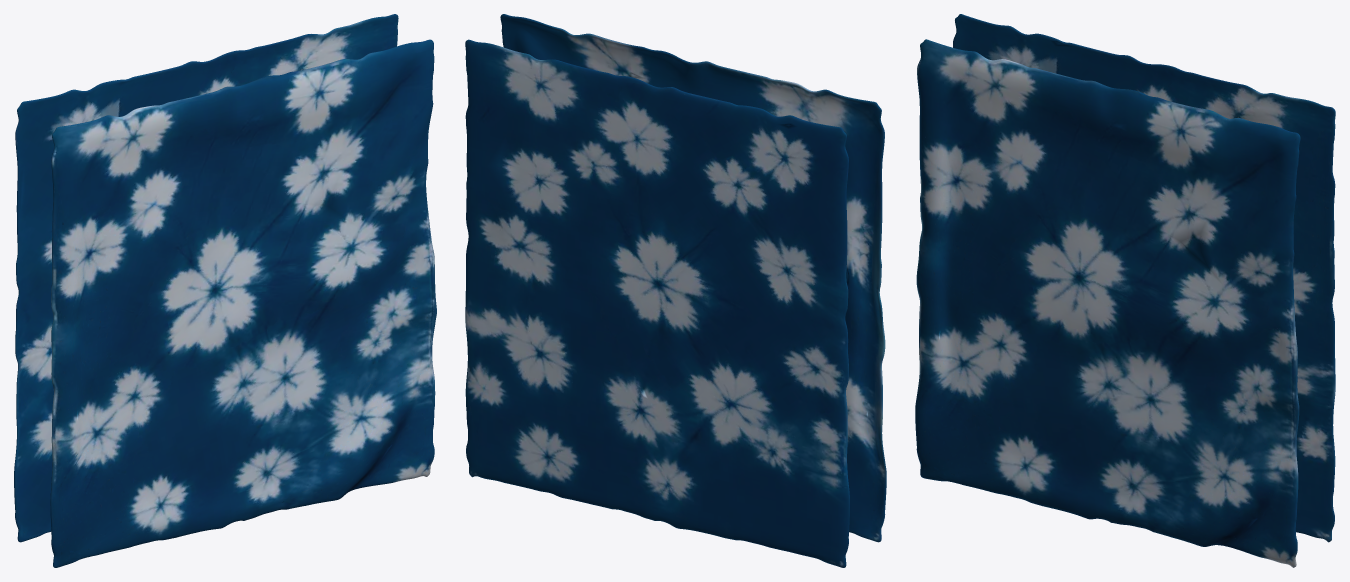
File: tiedye_tc.glb
The picture shows the model from 3 angles, left to right: view 1: azimuth 30°, elevation 25°; view 2: azimuth 150°, elevation 25°; view 3: azimuth 330°, elevation 25°; orthographic projection.
Visible parts, largest first — view 1: node_0; view 2: node_0; view 3: node_0.
Boxes of the visible parts, x1,y1,x2,y2 form: node_0: (14, 14, 436, 567); node_0: (465, 14, 886, 567); node_0: (915, 14, 1335, 567).
Bounding box in the file's own units: 0.8171 × 0.8924 × 0.1505.
1 material, 1 textured.
